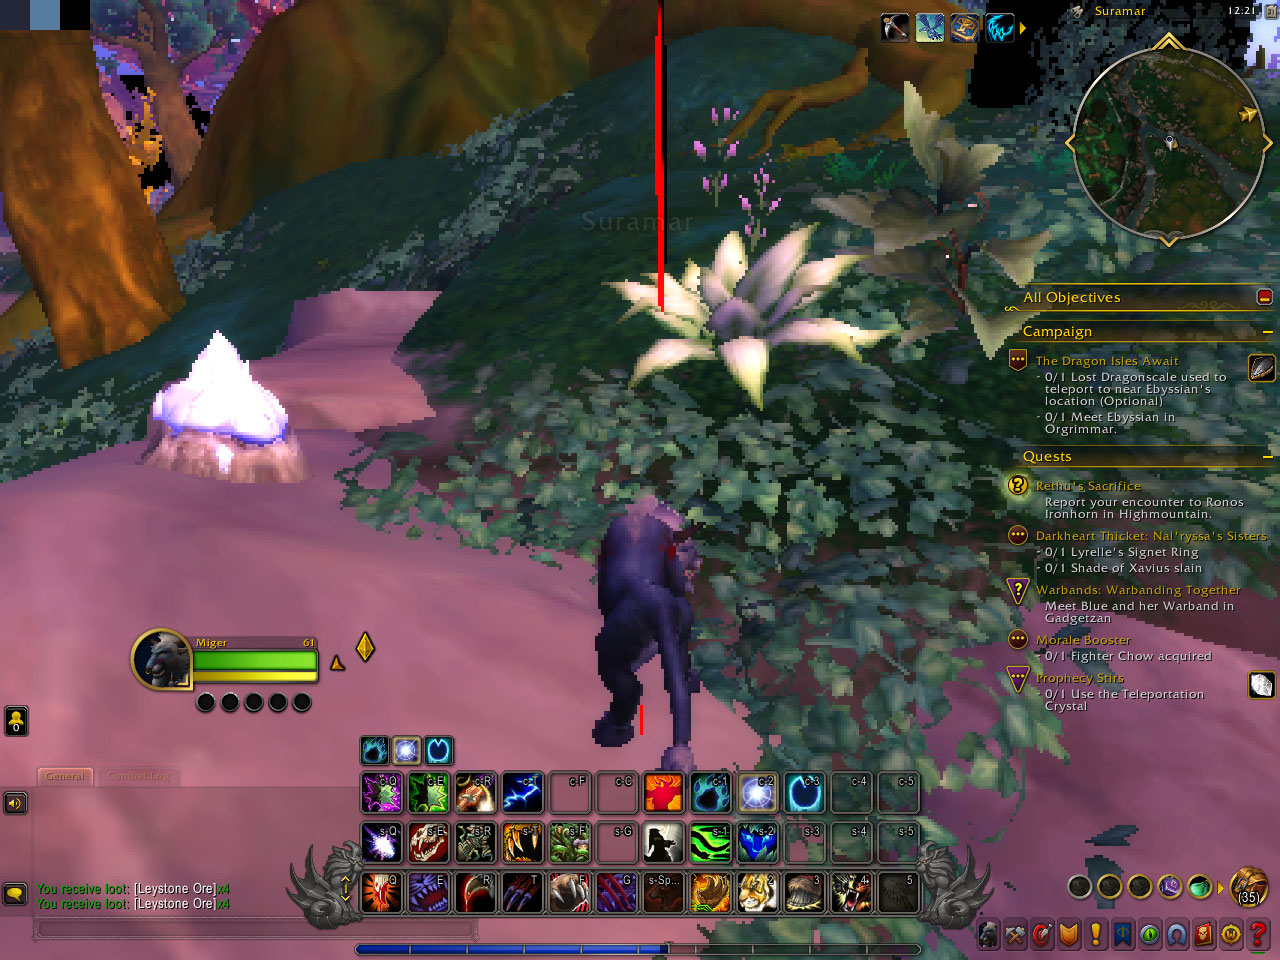ore: (136, 332, 312, 492)
